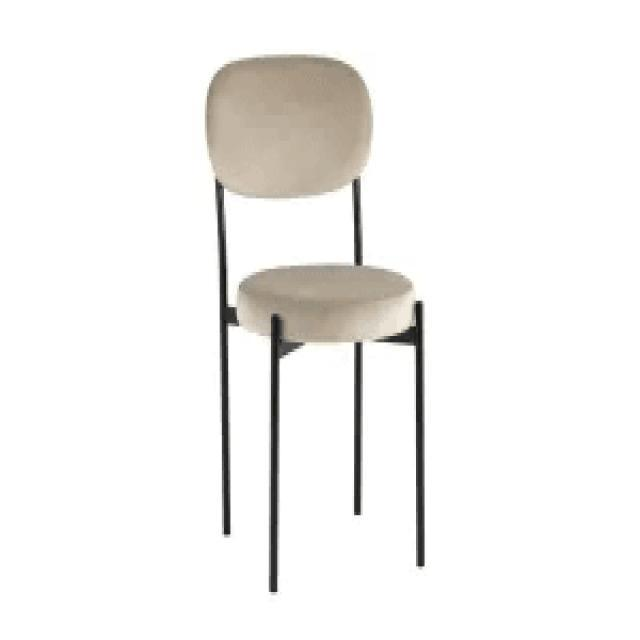chair: (201, 49, 431, 594), (204, 55, 416, 342)
